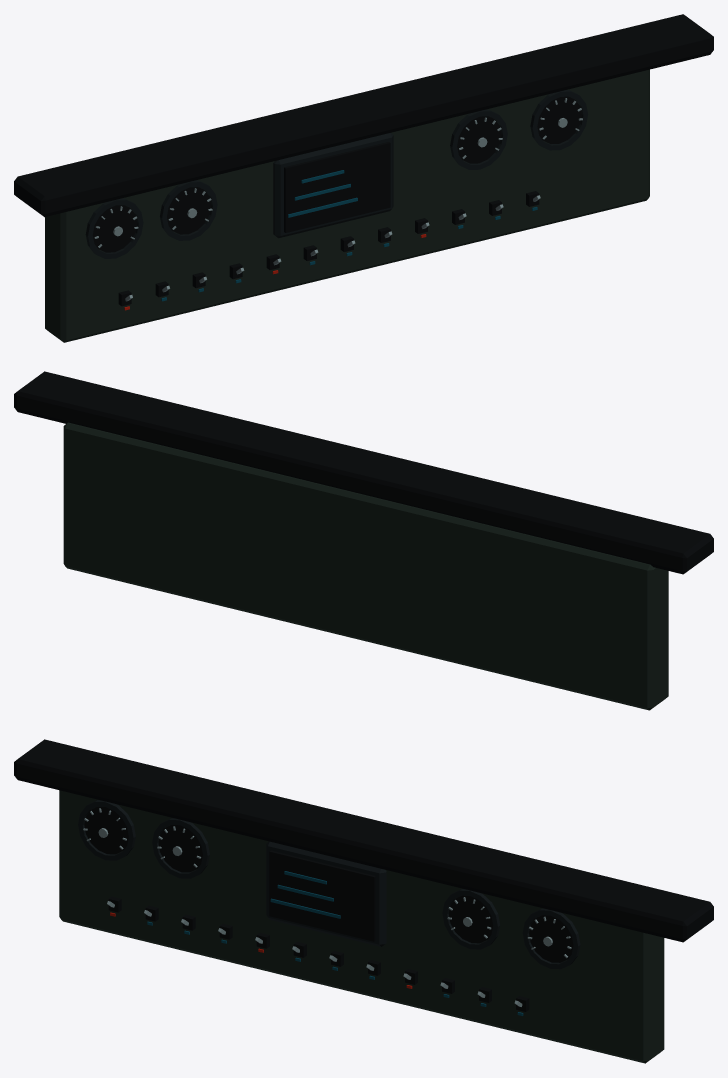
The model's file is Cockpit_Rotorcraft__Panel.obj.
The picture shows the model from 3 angles, top to bottom: view 1: azimuth 30°, elevation 25°; view 2: azimuth 150°, elevation 25°; view 3: azimuth 330°, elevation 25°; orthographic projection.
Parts seen in each view (by area): view 1: Wide_panel, Glare_shield, Flight_dark_inset, Flight_case, Fuel_face, AGL_face, Speed_face, Rotor_face, Speed_bezel, Fuel_bezel, AGL_bezel, Rotor_bezel; view 2: Wide_panel, Glare_shield; view 3: Wide_panel, Glare_shield, Flight_dark_inset, Flight_case, AGL_face, Fuel_face, Speed_face, Rotor_face, AGL_bezel, Fuel_bezel, Speed_bezel, Rotor_bezel.
Part boxes in pixels (left/top/right/bottom): Wide_panel: left=45, top=69, right=649, bottom=342; Glare_shield: left=14, top=14, right=713, bottom=217; Flight_dark_inset: left=284, top=142, right=390, bottom=232; Flight_case: left=273, top=133, right=393, bottom=238; Fuel_face: left=537, top=96, right=581, bottom=143; AGL_face: left=167, top=187, right=211, bottom=234; Speed_face: left=92, top=205, right=137, bottom=252; Rotor_face: left=457, top=116, right=501, bottom=163; Speed_bezel: left=85, top=198, right=143, bottom=258; Fuel_bezel: left=530, top=90, right=588, bottom=150; AGL_bezel: left=160, top=180, right=217, bottom=240; Rotor_bezel: left=450, top=109, right=507, bottom=169; Wide_panel: left=63, top=422, right=668, bottom=710; Glare_shield: left=14, top=371, right=713, bottom=574; Wide_panel: left=59, top=790, right=664, bottom=1063; Glare_shield: left=14, top=739, right=713, bottom=942; Flight_dark_inset: left=269, top=850, right=375, bottom=941; Flight_case: left=266, top=841, right=386, bottom=946; AGL_face: left=158, top=825, right=202, bottom=872; Fuel_face: left=529, top=915, right=573, bottom=962; Speed_face: left=84, top=807, right=128, bottom=854; Rotor_face: left=448, top=895, right=493, bottom=943; AGL_bezel: left=152, top=818, right=209, bottom=878; Fuel_bezel: left=522, top=908, right=580, bottom=969; Speed_bezel: left=78, top=800, right=135, bottom=860; Rotor_bezel: left=442, top=889, right=500, bottom=949.
Size of the model in its own units: 2.18 by 0.5075 by 0.175.
